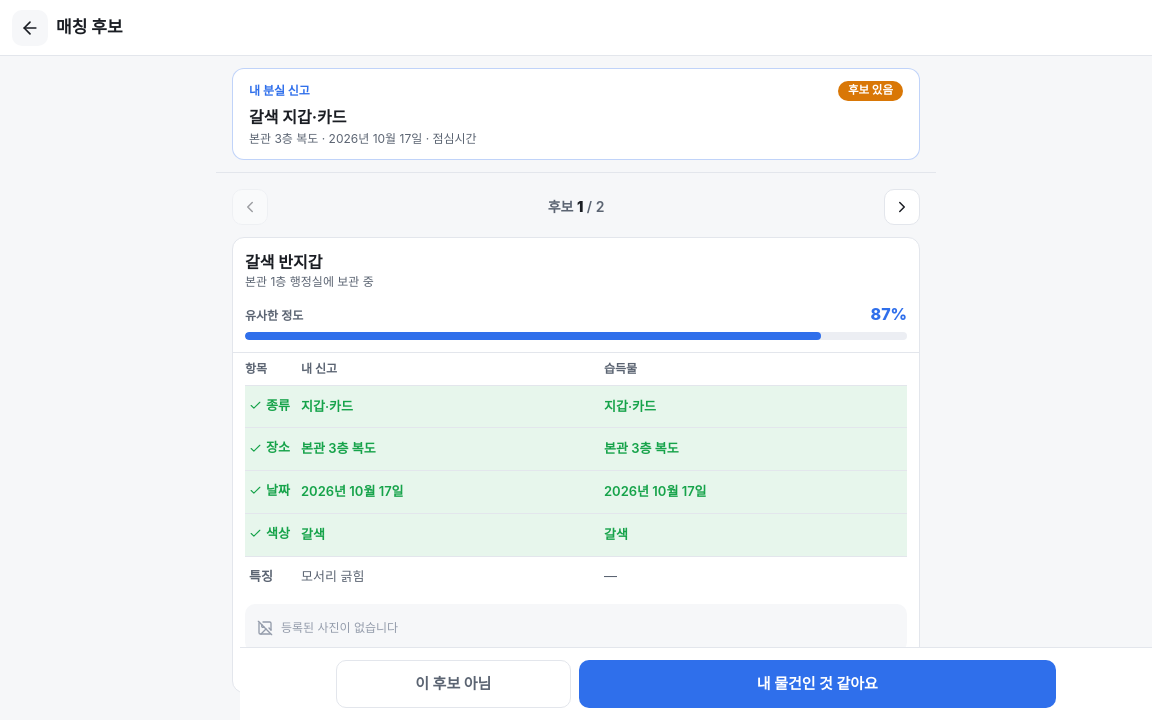
Scenario: MatchesPage › 내 분실 신고를 위에 고정하고 후보를 하나씩 넘겨 본다
Check: the element labelled "내 분실 신고" shows "갈색 지갑·카드", box [249, 106, 346, 126]
Check: the element named "후보 갈색 반지갑" is shown, box [232, 236, 920, 692]
Click the button named "다음 후보" at (902, 206), box [884, 188, 920, 224]
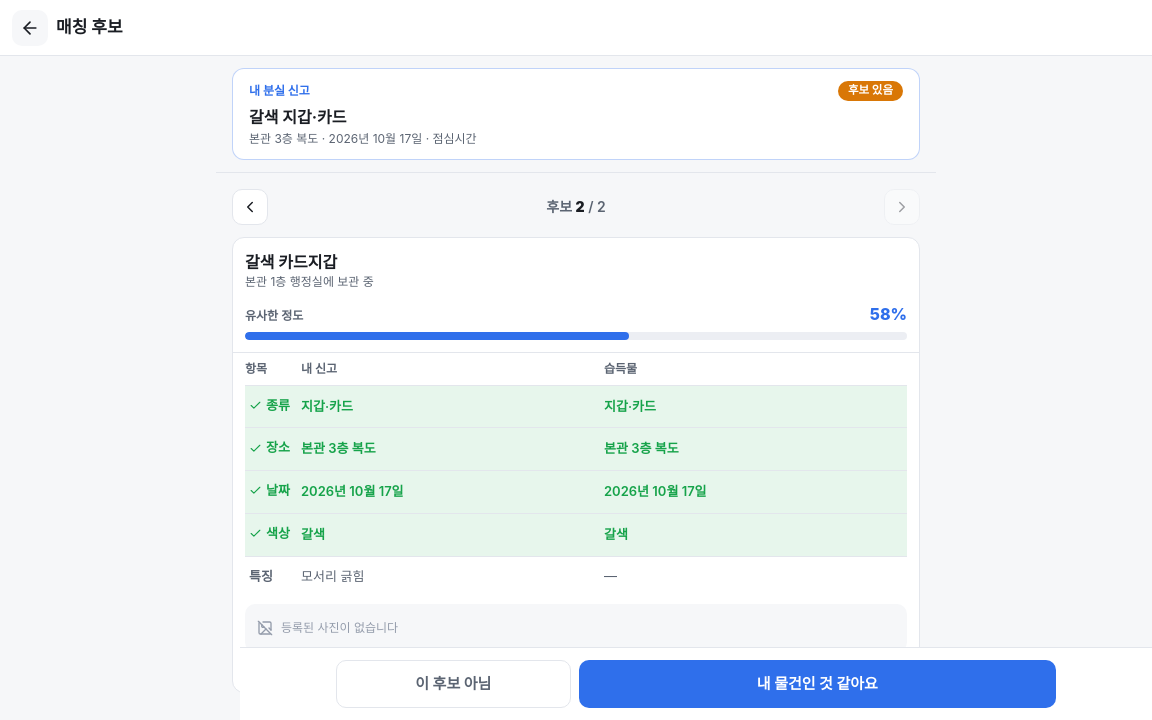
Check: the element named "후보 갈색 카드지갑" is shown, box [232, 236, 920, 692]
Click the button named "이전 후보" at (250, 206), box [232, 188, 268, 224]
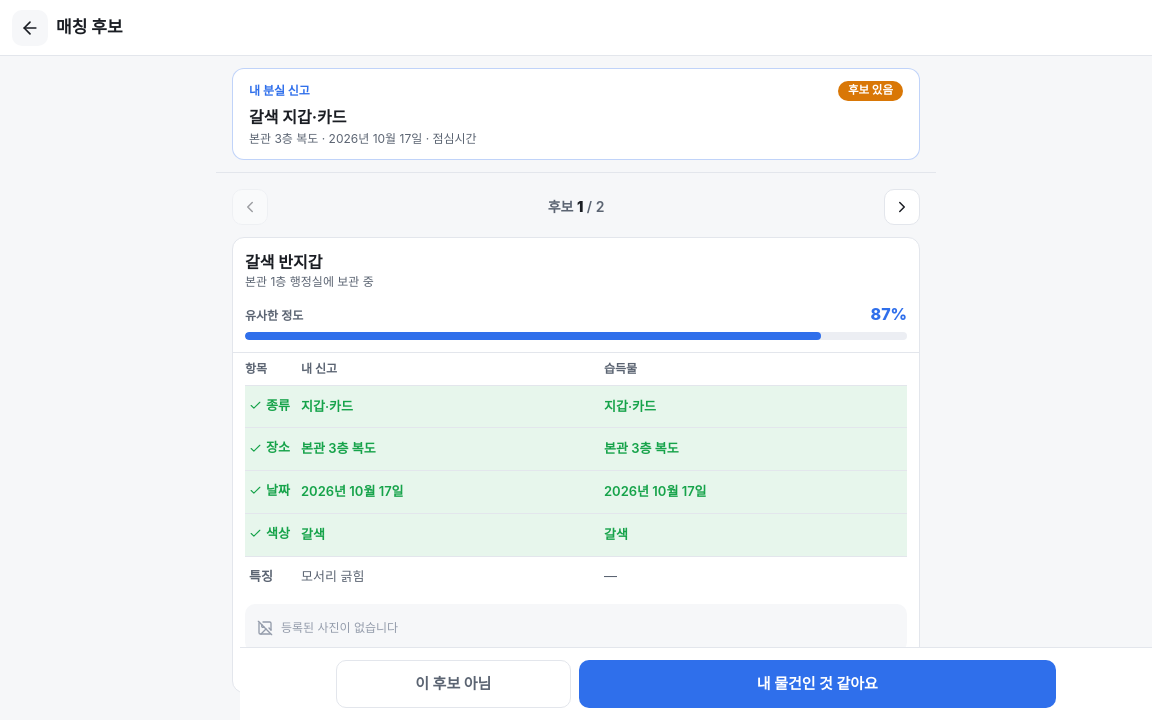
Check: the element named "후보 갈색 반지갑" is shown, box [232, 236, 920, 692]
